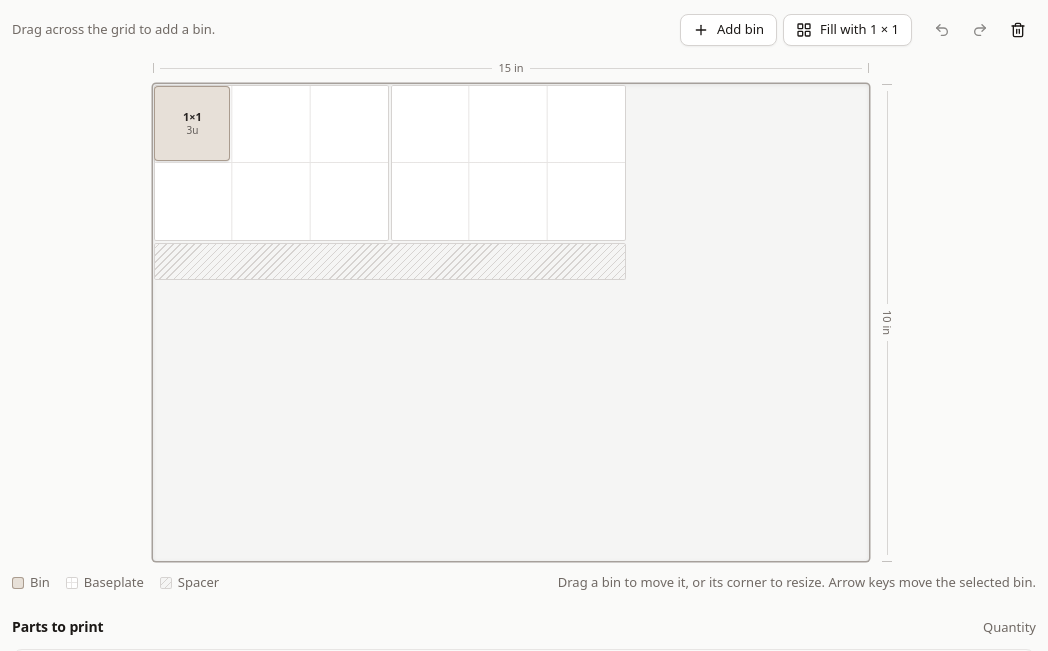
Test: GridfinityVisualPreview bin editor › adds a 1 × 1 bin in the first free cell and opens it
The image size is (1048, 651).
Click the button "Add bin" at [729, 30], box [680,14,777,46]
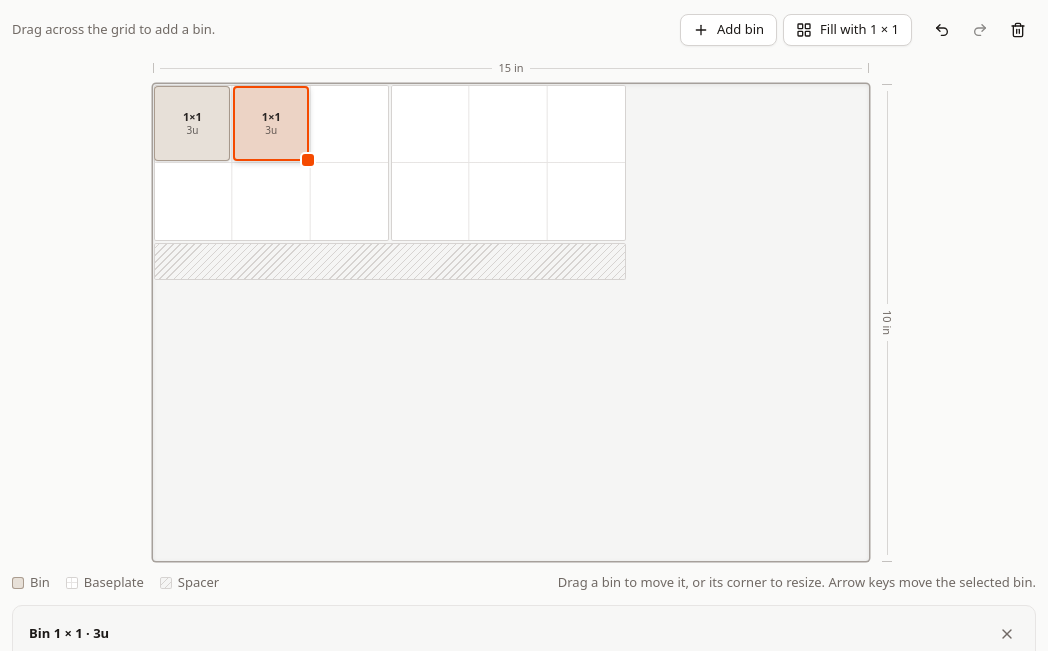
Expected: the heading "Bin 1 × 1 · 3u" is shown, [29,624,109,644]
